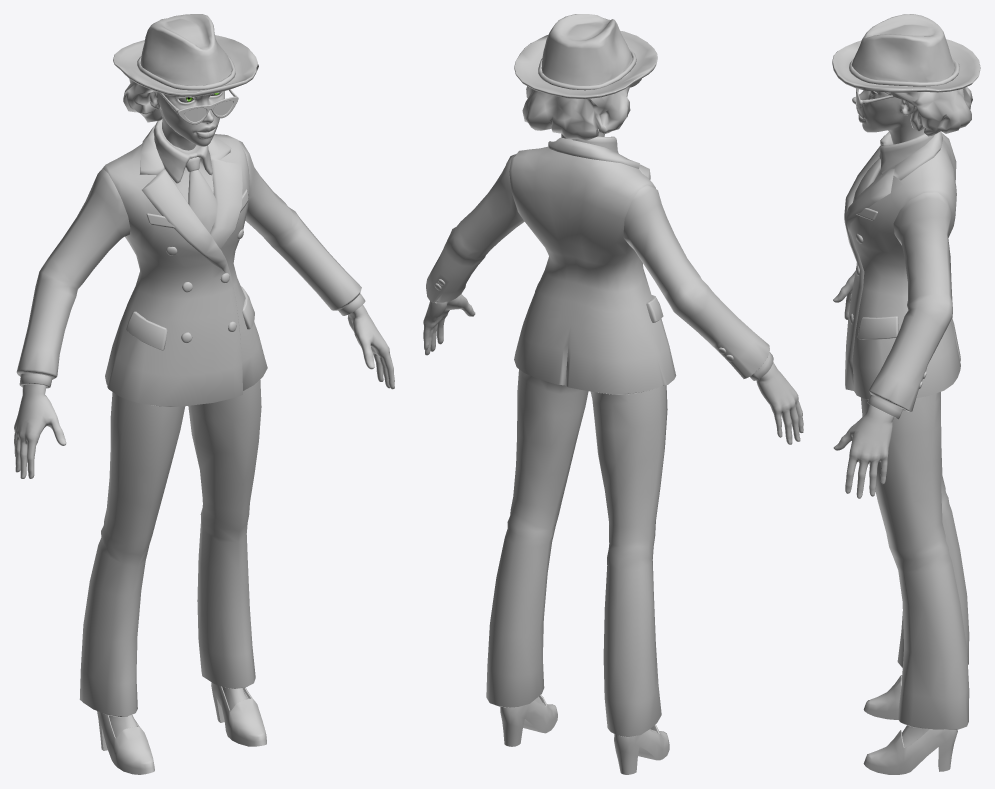
The model's file is W Character 13.fbx.
The picture shows the model from 3 angles, left to right: view 1: azimuth 30°, elevation 25°; view 2: azimuth 150°, elevation 25°; view 3: azimuth 270°, elevation 25°; orthographic projection.
Parts seen in each view (by area): view 1: Wolf3D_Outfit_Top.003, Wolf3D_Outfit_Bottom.003, Wolf3D_Headwear.002, body.003, Wolf3D_Outfit_Footwear.004, head, Wolf3D_Glasses.002, Wolf3D_Headwear.001, Wolf3D_Body.001; view 2: Wolf3D_Outfit_Top.003, Wolf3D_Outfit_Bottom.003, Wolf3D_Headwear.002, Wolf3D_Headwear.001, Wolf3D_Outfit_Footwear.004, body.003; view 3: Wolf3D_Outfit_Top.003, Wolf3D_Outfit_Bottom.003, Wolf3D_Headwear.002, Wolf3D_Outfit_Footwear.004, body.003, Wolf3D_Headwear.001, head, Wolf3D_Body.001.
Boxes of the visible parts, bbox=[...] form: Wolf3D_Outfit_Top.003: bbox=[16, 119, 365, 406]; Wolf3D_Outfit_Bottom.003: bbox=[79, 379, 261, 717]; Wolf3D_Headwear.002: bbox=[113, 14, 258, 96]; body.003: bbox=[14, 305, 394, 478]; Wolf3D_Outfit_Footwear.004: bbox=[97, 682, 266, 774]; head: bbox=[150, 91, 224, 150]; Wolf3D_Glasses.002: bbox=[159, 89, 238, 124]; Wolf3D_Headwear.001: bbox=[123, 79, 162, 122]; Wolf3D_Body.001: bbox=[108, 686, 248, 737]; Wolf3D_Outfit_Top.003: bbox=[426, 134, 773, 394]; Wolf3D_Outfit_Bottom.003: bbox=[486, 369, 667, 737]; Wolf3D_Headwear.002: bbox=[514, 14, 657, 99]; Wolf3D_Headwear.001: bbox=[522, 86, 630, 140]; Wolf3D_Outfit_Footwear.004: bbox=[500, 695, 669, 774]; body.003: bbox=[423, 294, 803, 444]; Wolf3D_Outfit_Top.003: bbox=[844, 131, 960, 419]; Wolf3D_Outfit_Bottom.003: bbox=[861, 392, 969, 729]; Wolf3D_Headwear.002: bbox=[832, 14, 980, 92]; Wolf3D_Outfit_Footwear.004: bbox=[863, 675, 957, 774]; body.003: bbox=[833, 271, 894, 498]; Wolf3D_Headwear.001: bbox=[883, 87, 972, 136]; head: bbox=[852, 90, 926, 144]; Wolf3D_Body.001: bbox=[902, 725, 929, 747].
Size of the model in its own units: 101 by 188 by 35.37.
